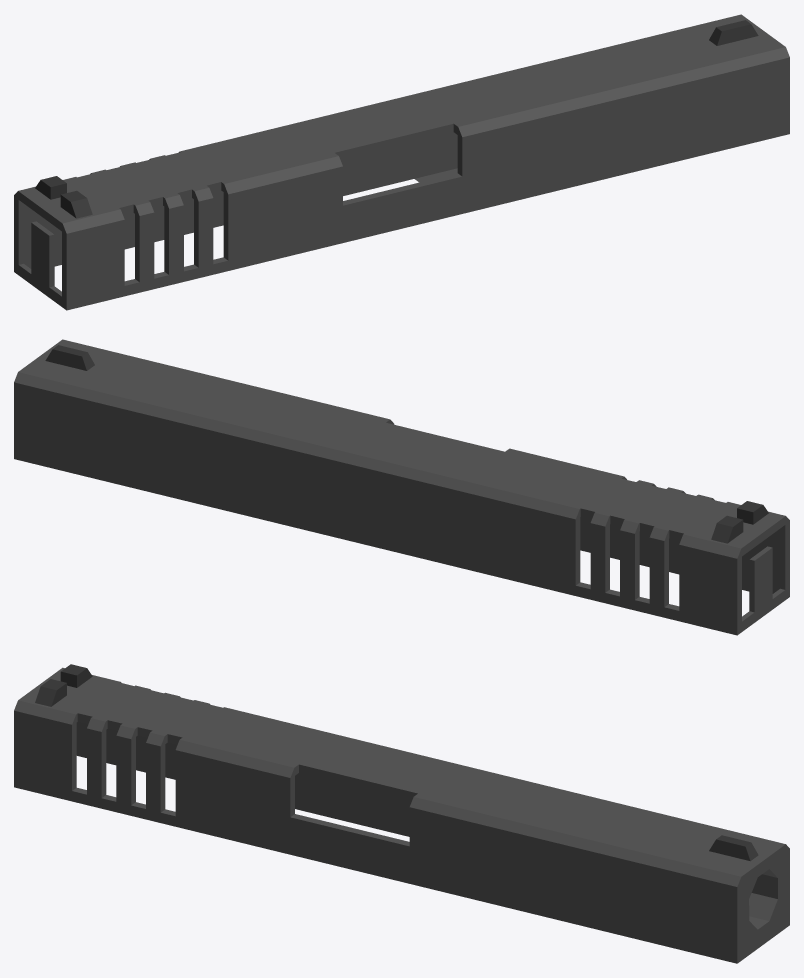
File: SM_Weapon_01_2.fbx
3 views of the same model, one above another, from view 1: azimuth 30°, elevation 25°; view 2: azimuth 150°, elevation 25°; view 3: azimuth 330°, elevation 25° (orthographic).
Parts seen in each view (by area): view 1: SM_Weapon_01_2; view 2: SM_Weapon_01_2; view 3: SM_Weapon_01_2.
Boxes of the visible parts, x1=… form: SM_Weapon_01_2: x1=14, y1=14, x2=789, y2=310; SM_Weapon_01_2: x1=14, y1=339, x2=789, y2=635; SM_Weapon_01_2: x1=14, y1=664, x2=789, y2=963.
Size of the model in its own units: 0.224 by 0.0286 by 0.0283.
Materials: 1 (1 with a texture image).
